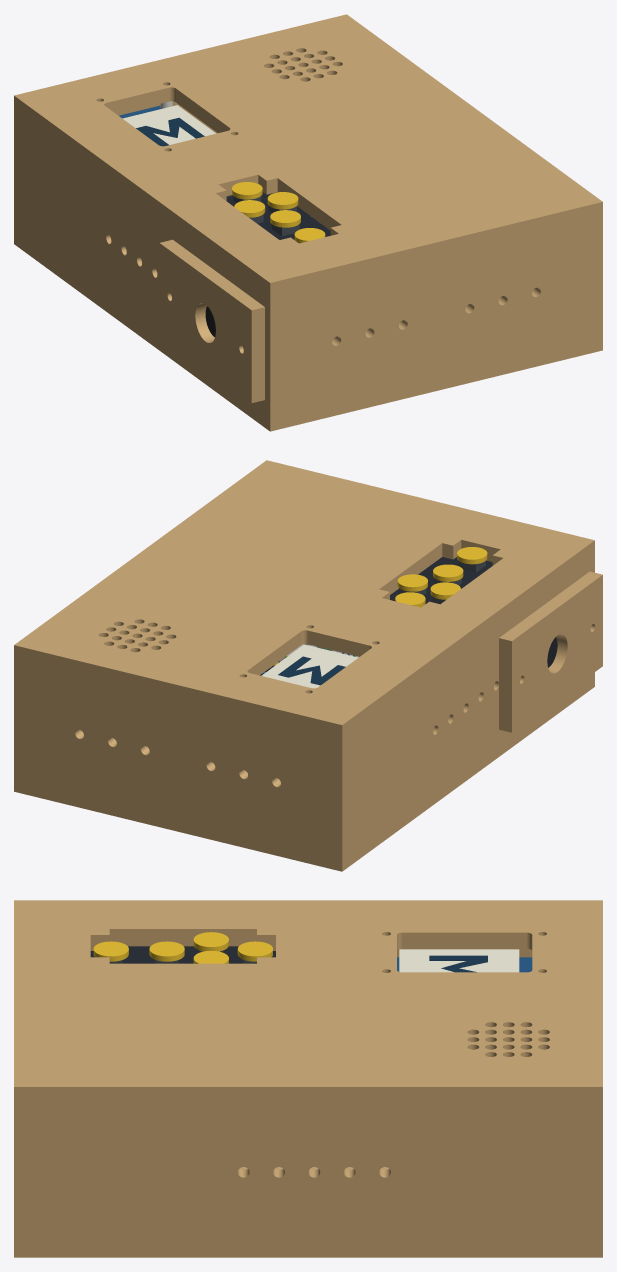
File: enclosure-fX7Su1E3.glb
3 renders of one model, top to bottom at view 1: azimuth 30°, elevation 25°; view 2: azimuth 150°, elevation 25°; view 3: azimuth 270°, elevation 25°, orthographic. The views are drawn at different scales.
Parts seen in each view (by area): view 1: enclosure (×5); view 2: enclosure (×5); view 3: enclosure (×5).
Part boxes in pixels (box(x1,y1,x2,y2)): enclosure (×5): box(14, 14, 602, 431); enclosure (×5): box(14, 460, 602, 871); enclosure (×5): box(14, 900, 602, 1257).
Bounding box in the file's own units: 0.156 × 0.064 × 0.2.
